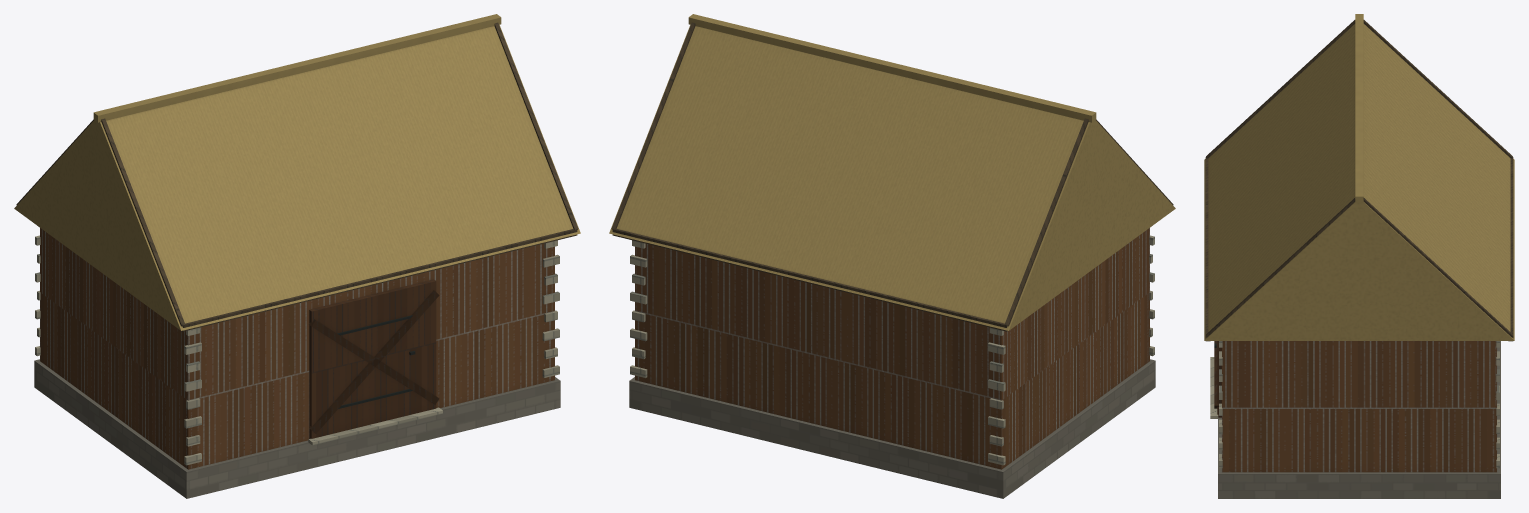
File: barn.glb
3 views of the same model, side by side, from view 1: azimuth 30°, elevation 25°; view 2: azimuth 150°, elevation 25°; view 3: azimuth 270°, elevation 25° (orthographic). The views are drawn at different scales.
Parts seen in each view (by area): view 1: barn; view 2: barn; view 3: barn.
Part boxes in pixels (x1,y1,x2,y2): barn: (14,14,580,498); barn: (609,14,1175,498); barn: (1204,14,1514,498).
Bounding box in the file's own units: 11 × 8.67 × 7.9.
1 material, 1 textured.
